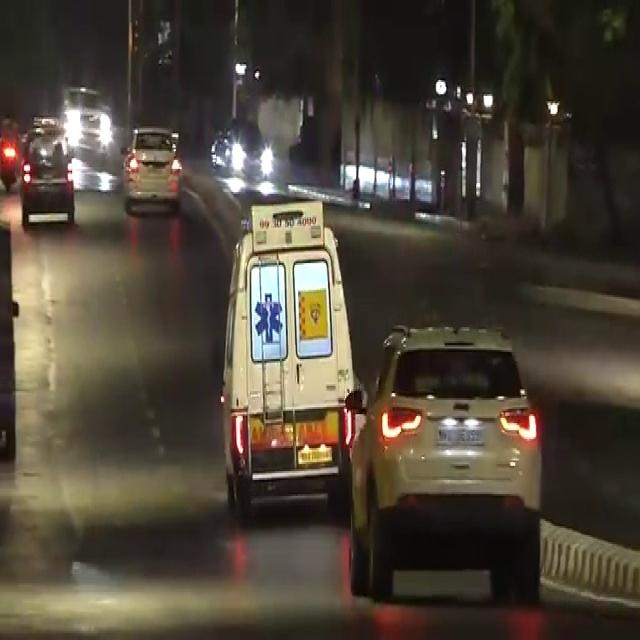ambulance: (206, 179, 356, 523)
